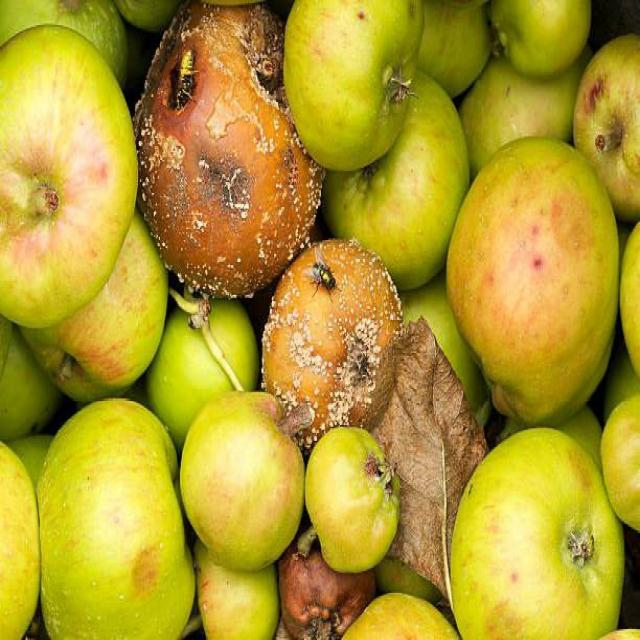fresh_apple: (442, 137, 620, 425), (38, 397, 198, 640)
rotten_apple: (136, 0, 329, 298), (263, 227, 404, 433)
